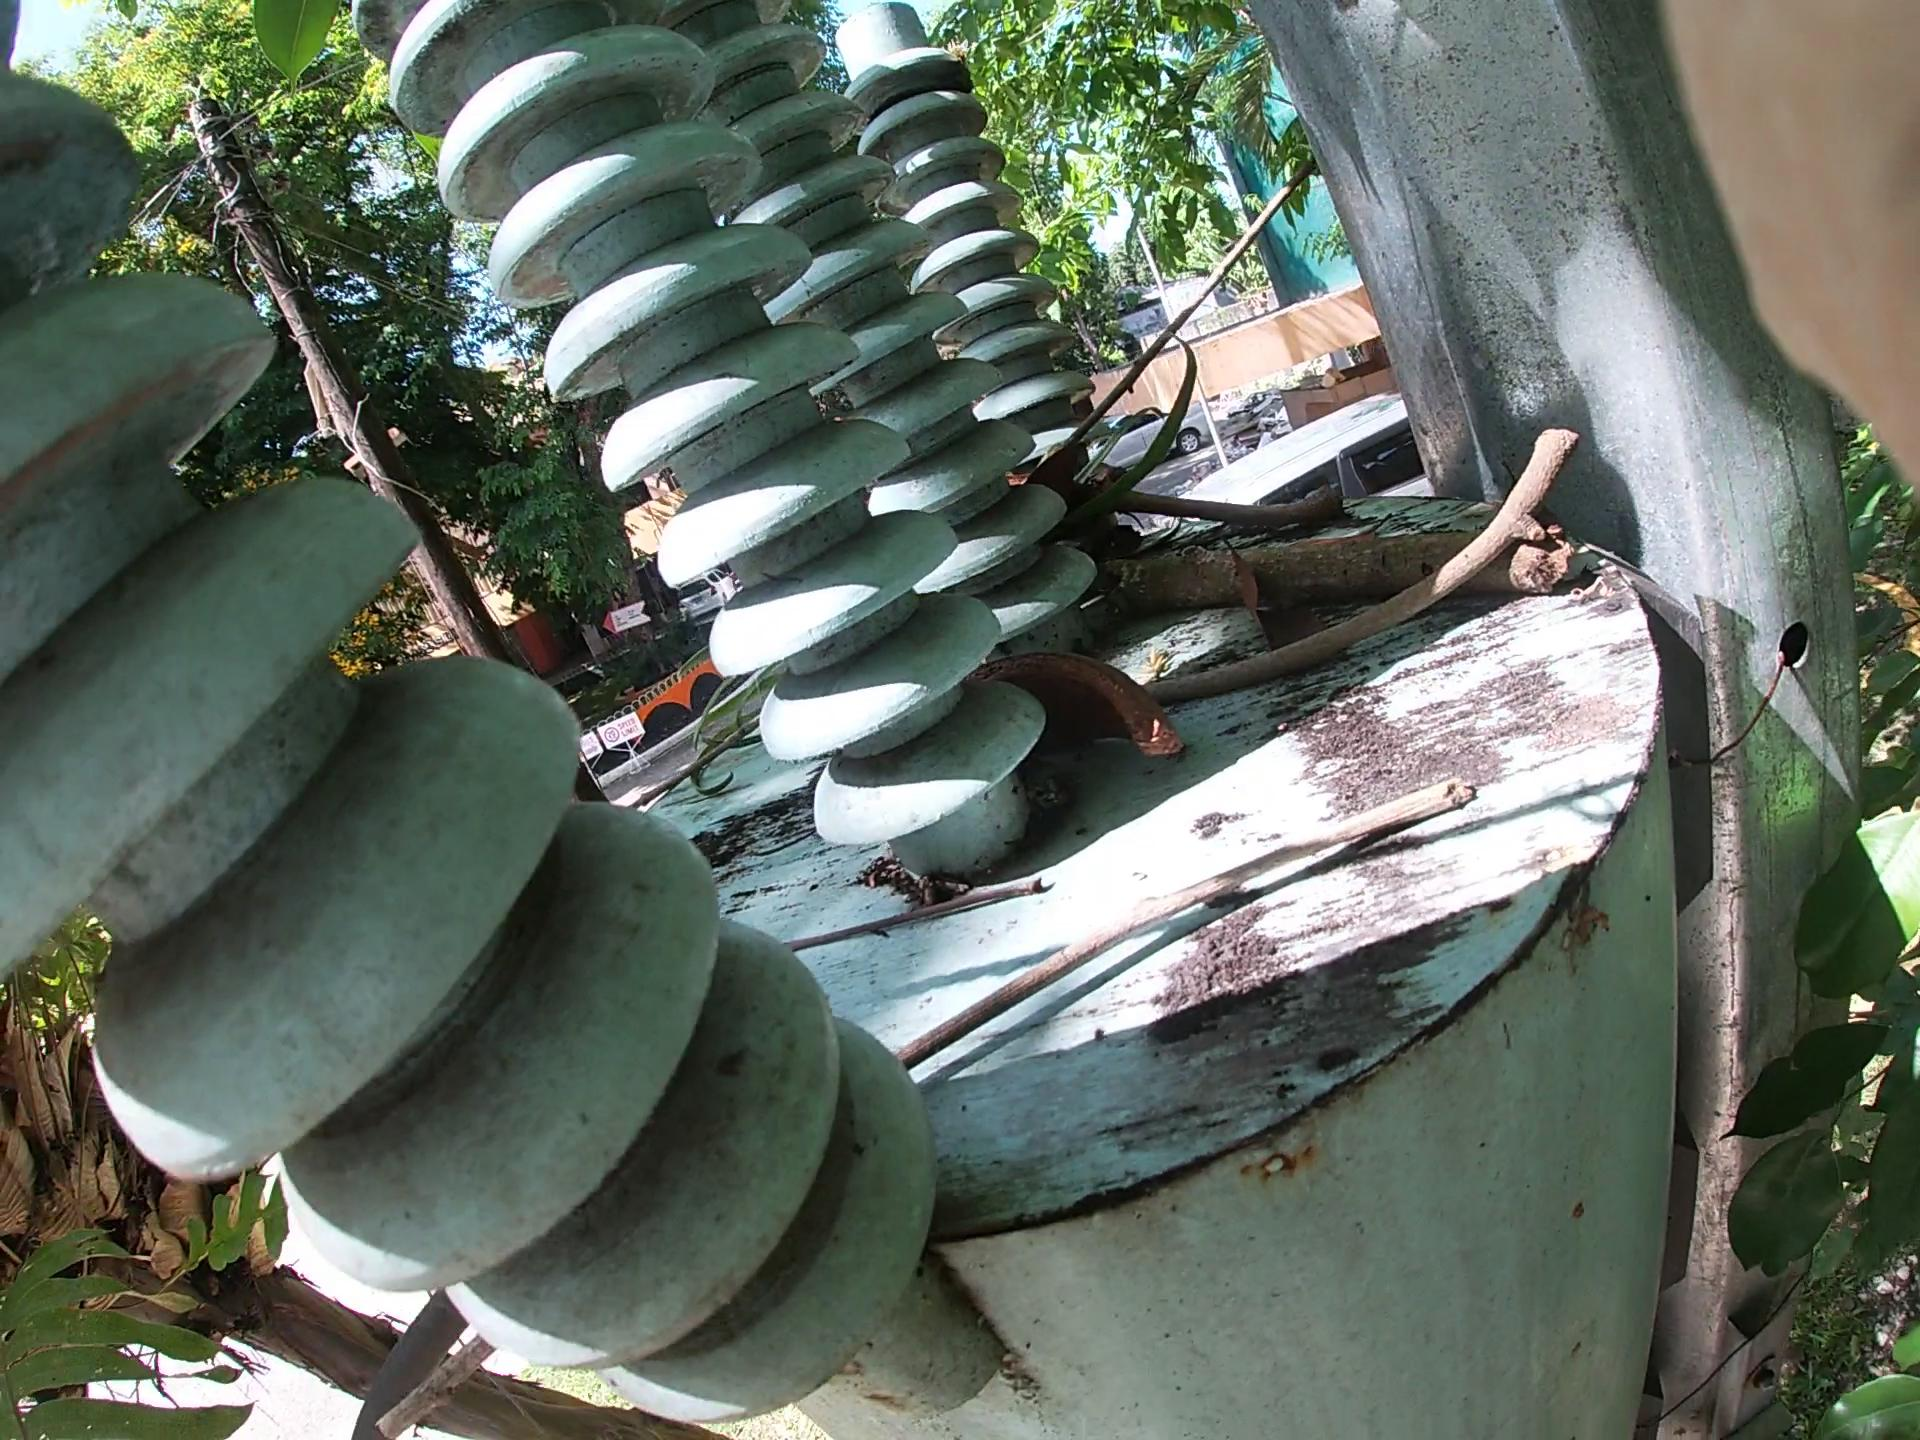branch with leaves: (903, 349, 1661, 622)
leaf: (1205, 461, 1342, 675)
mahogany fruit: (945, 602, 1222, 800)
tree branch: (618, 163, 1270, 826), (881, 787, 1370, 1071), (1147, 507, 1640, 684), (711, 911, 1054, 992)
